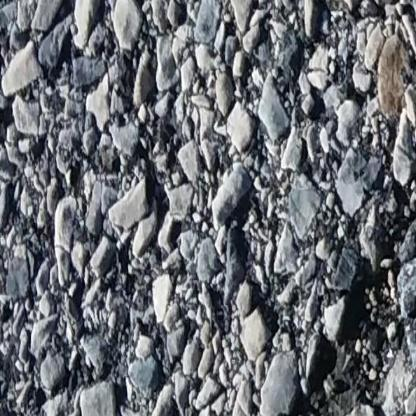Cracks: (271, 146, 416, 416), (0, 314, 15, 416)
